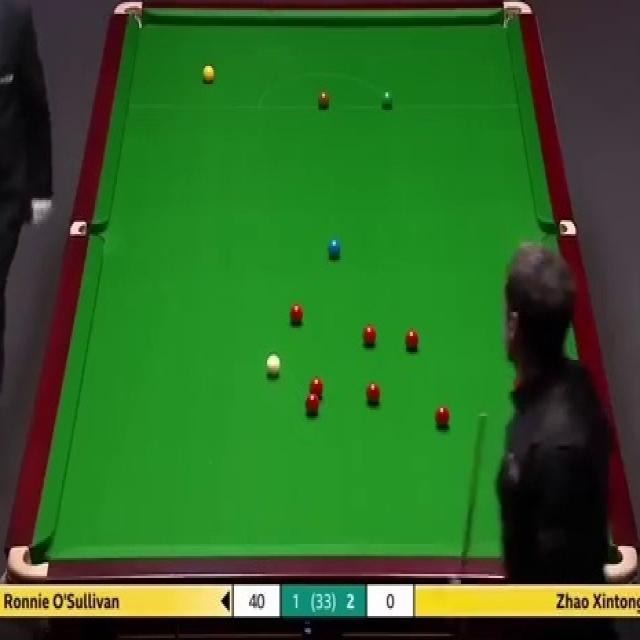blue-ball: (327, 237, 342, 258)
brown-ball: (317, 90, 330, 110)
green-ball: (380, 91, 396, 112)
red-ball: (365, 381, 382, 405), (360, 323, 377, 345), (289, 304, 304, 326), (305, 392, 319, 415), (435, 408, 448, 431), (405, 330, 418, 352), (308, 377, 324, 394)
white-ball: (266, 352, 282, 376)
yellow-ball: (203, 65, 216, 86)
